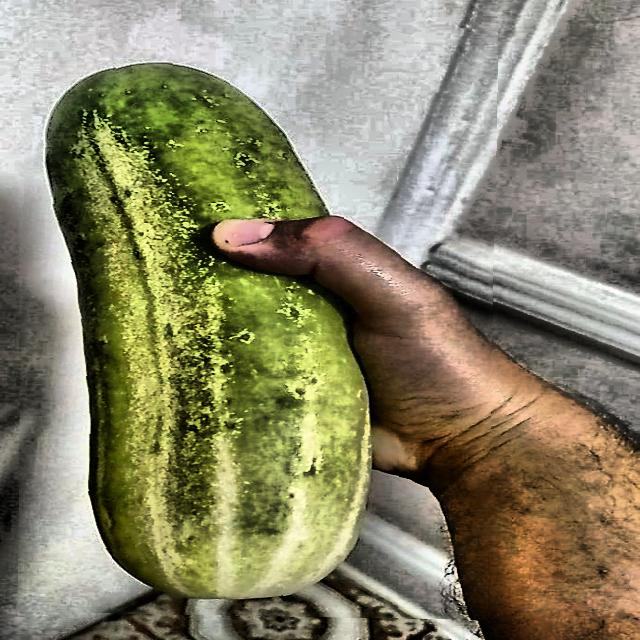cucumber: (19, 22, 496, 618)
